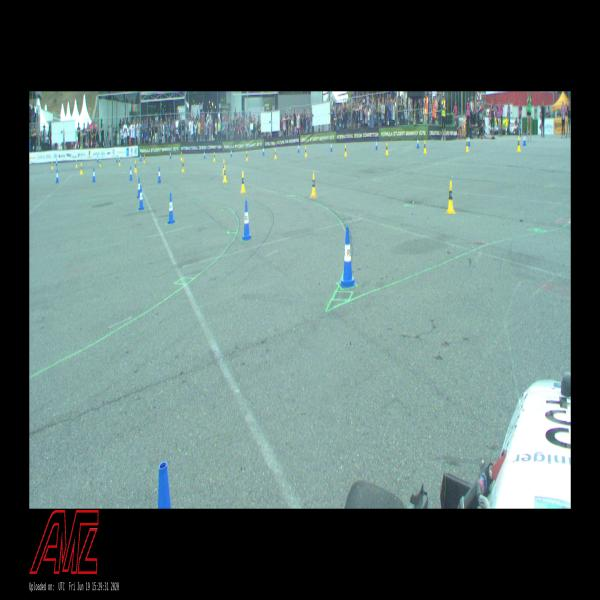blue_cone: (339, 226, 356, 288), (158, 462, 171, 508), (242, 201, 252, 241), (168, 193, 175, 224), (138, 185, 144, 210), (158, 167, 162, 183), (137, 178, 140, 199), (129, 166, 133, 181), (92, 168, 96, 182), (56, 169, 59, 183), (523, 132, 526, 146), (330, 142, 333, 152), (375, 139, 378, 149), (468, 134, 470, 146), (417, 137, 419, 148), (298, 142, 300, 152), (262, 146, 264, 155), (140, 153, 142, 161), (170, 150, 172, 158), (204, 150, 206, 158), (230, 149, 232, 157), (116, 156, 118, 163)
yellow_cone: (447, 181, 456, 214), (311, 172, 316, 198), (241, 171, 246, 193), (223, 164, 227, 183), (517, 136, 521, 152), (465, 137, 469, 152), (134, 160, 138, 173), (80, 163, 83, 174), (274, 148, 277, 159), (344, 145, 347, 156), (222, 159, 224, 174), (182, 159, 184, 172), (386, 142, 388, 155), (424, 140, 426, 153), (305, 146, 307, 157), (246, 150, 248, 160), (119, 157, 121, 166), (144, 154, 146, 163), (76, 160, 78, 168), (100, 159, 102, 167), (180, 152, 182, 160), (214, 152, 215, 162), (52, 161, 53, 169)
